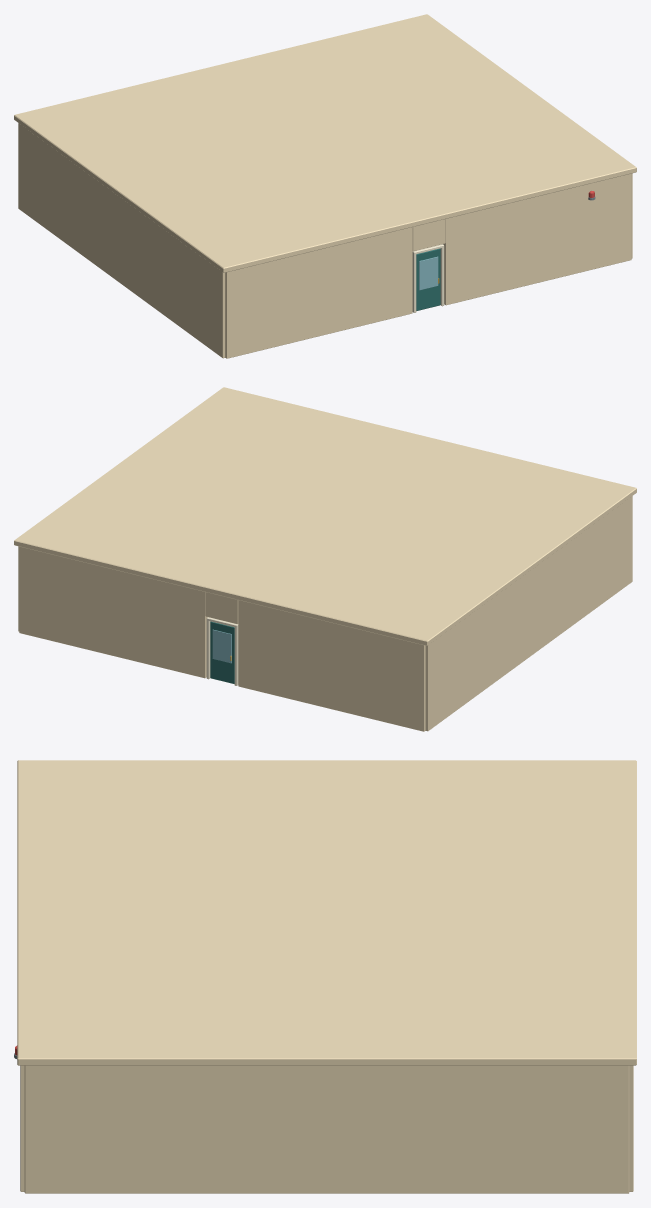
The model's file is Interior_Bank.fbx.
The picture shows the model from 3 angles, top to bottom: view 1: azimuth 30°, elevation 25°; view 2: azimuth 150°, elevation 25°; view 3: azimuth 270°, elevation 25°; orthographic projection. The views are drawn at different scales.
Visible parts, largest first — view 1: Roof_Removable.002, WallLeft.002, WallSegment.008, WallSegment.009, Entrance_Door.003, DoorHeader.004, Entrance_Glass.003; view 2: Roof_Removable.002, WallLeft.002, WallSegment.010, WallSegment.011, RearExit_Door.003, DoorHeader.005, RearExit_Glass.003; view 3: Roof_Removable.002, WallRight.002, WallSegment.009, WallSegment.011.
Boxes of the visible parts, x1,y1,x2,y2 form: Roof_Removable.002: [14, 14, 636, 272]; WallLeft.002: [18, 123, 225, 358]; WallSegment.008: [225, 227, 412, 358]; WallSegment.009: [443, 173, 631, 305]; Entrance_Door.003: [416, 248, 440, 310]; DoorHeader.004: [412, 219, 445, 251]; Entrance_Glass.003: [419, 256, 438, 290]; Roof_Removable.002: [14, 387, 636, 645]; WallLeft.002: [425, 496, 632, 731]; WallSegment.010: [238, 600, 425, 731]; WallSegment.011: [19, 546, 207, 678]; RearExit_Door.003: [210, 621, 234, 683]; DoorHeader.005: [205, 592, 238, 624]; RearExit_Glass.003: [212, 629, 231, 663]; Roof_Removable.002: [17, 760, 636, 1065]; WallRight.002: [24, 1065, 629, 1193]; WallSegment.009: [20, 1065, 24, 1191]; WallSegment.011: [629, 1065, 633, 1191].
Size of the model in its own units: 16.35 by 3.5 by 14.43.
